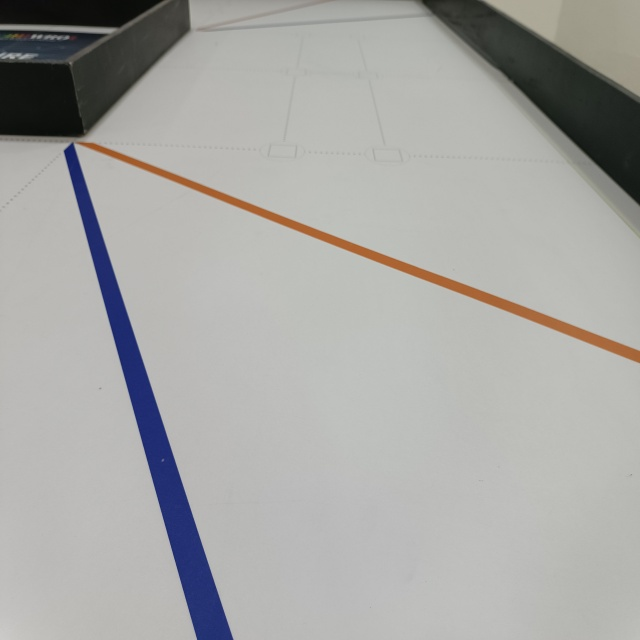blue line: (59, 143, 240, 640)
orange line: (80, 132, 640, 371)
